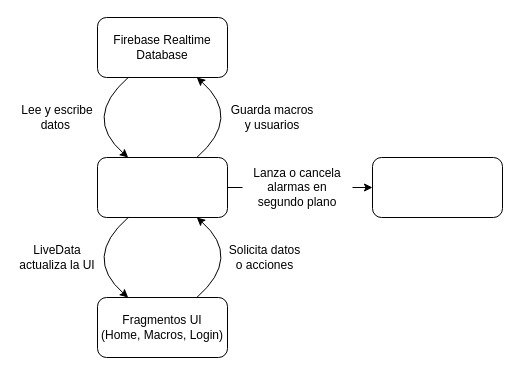
Some shapes in this 520 by 375 pixel diagram are drawn without their labels. Here are the shapes that lost their labels. From the top down, the box of each, then its label:
(96, 156, 228, 218): SharedViewModel (Lógica + LiveData)
(372, 156, 502, 218): AlarmHelper / AlarmReceiver
